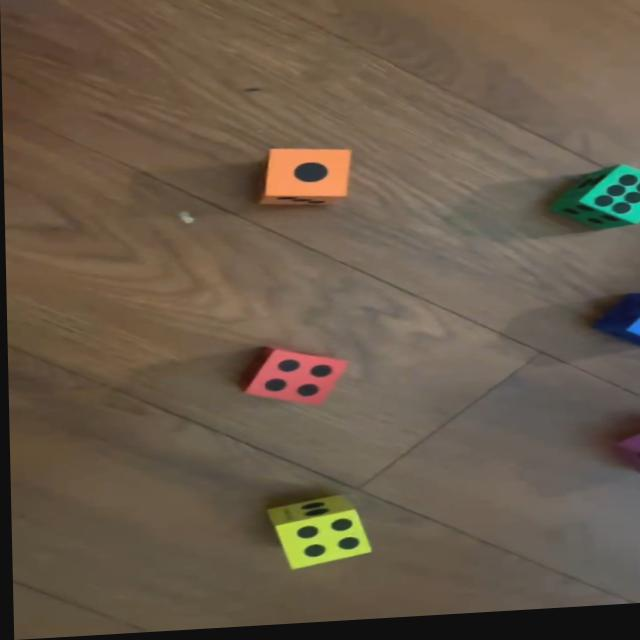cube: (235, 345, 345, 413), (548, 171, 640, 240), (586, 299, 640, 360)
